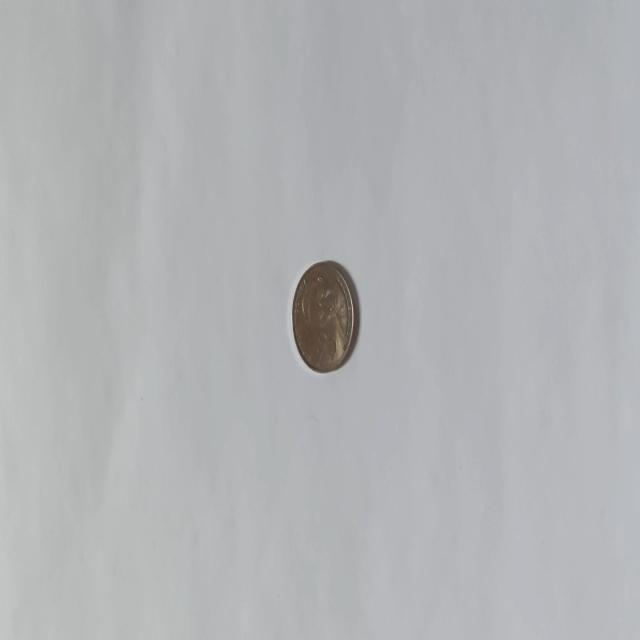seribu rupiah koin: (290, 258, 354, 374)
